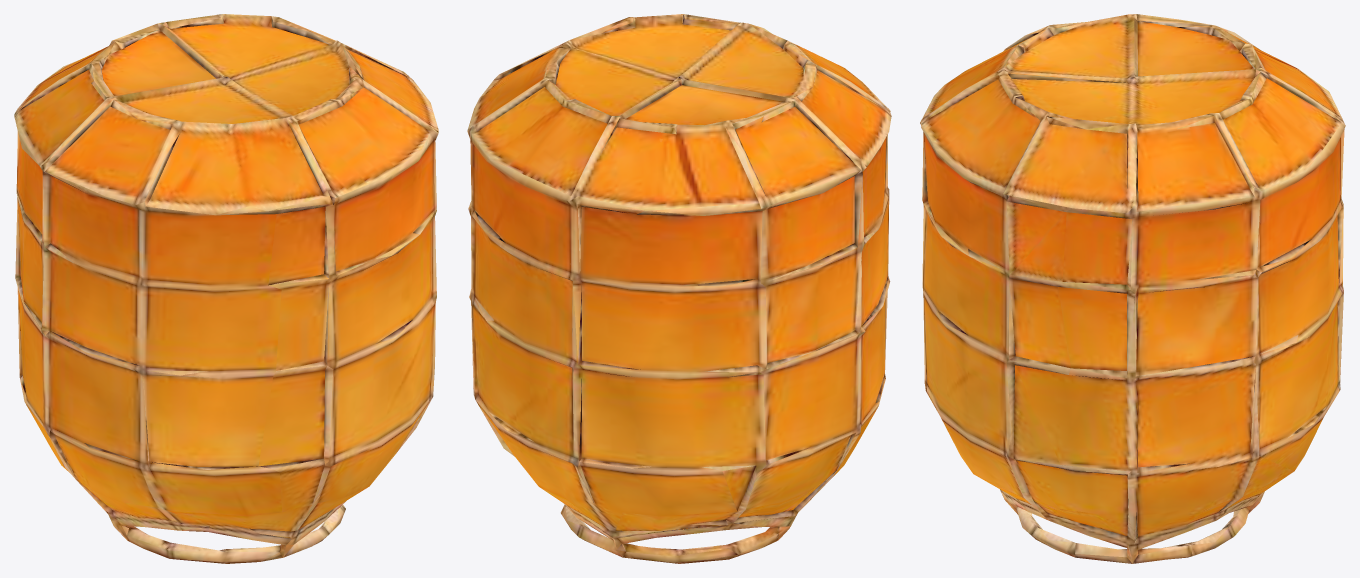
The model's file is lantern_sky.glb.
3 renders of one model, left to right at view 1: azimuth 30°, elevation 25°; view 2: azimuth 150°, elevation 25°; view 3: azimuth 270°, elevation 25°, orthographic.
Parts seen in each view (by area): view 1: lantern_sky; view 2: lantern_sky; view 3: lantern_sky.
Part boxes in pixels (bbox=[...]): lantern_sky: bbox=[14, 14, 438, 563]; lantern_sky: bbox=[467, 14, 891, 563]; lantern_sky: bbox=[920, 14, 1345, 563].
Bounding box in the file's own units: 0.6029 × 0.7004 × 0.6038.
Materials: 1 (1 with a texture image).
